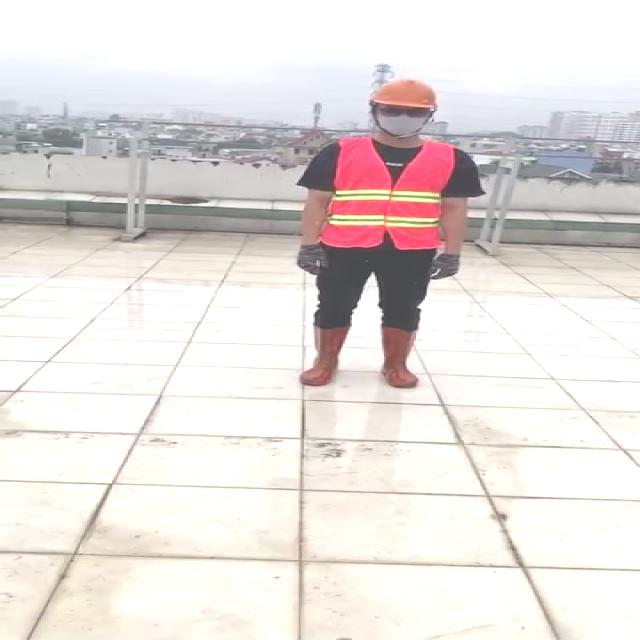boots: (297, 325, 355, 384), (376, 327, 422, 386)
gloves: (242, 233, 332, 296), (416, 234, 494, 294)
helmet: (368, 76, 442, 109)
vest: (322, 138, 456, 248)
